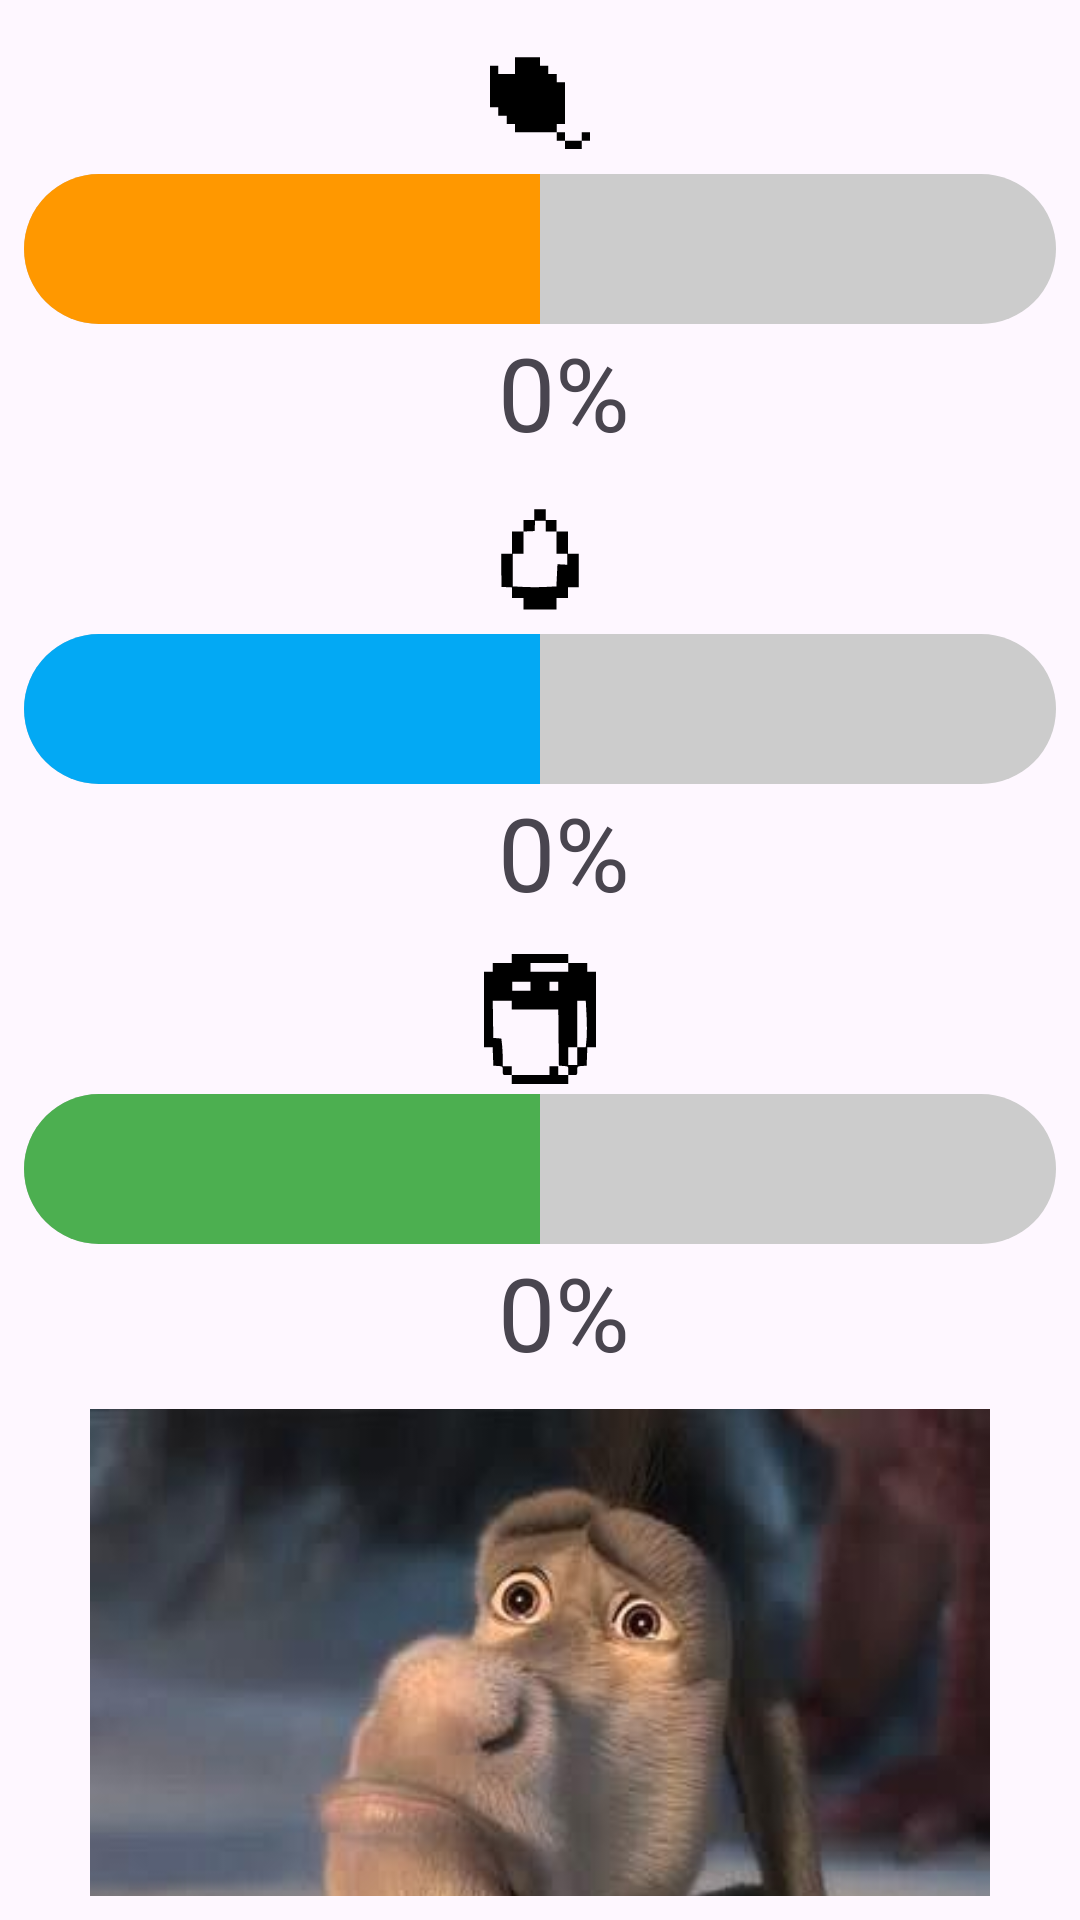

Icon click points for this 1080 x 1920 phone screenshot, format point (x, y):
clean: point (540, 1019)
hunger: point (540, 103)
thirst: point (540, 559)
